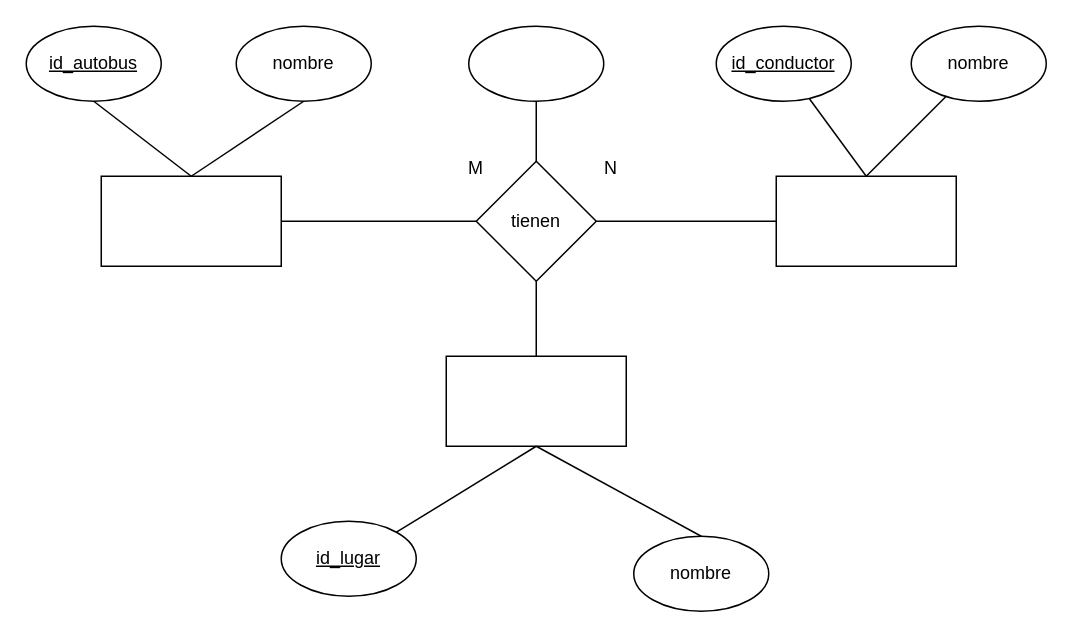
This 1073x638 diagram has some shape labels left out. Here are the shapes that lost their labels. From the top down, the centre of each, then its label:
At (535,63): "fecha_visita".
At (190,220): "Autobuses".
At (865,220): "Conductores".
At (535,400): "Lugares".
